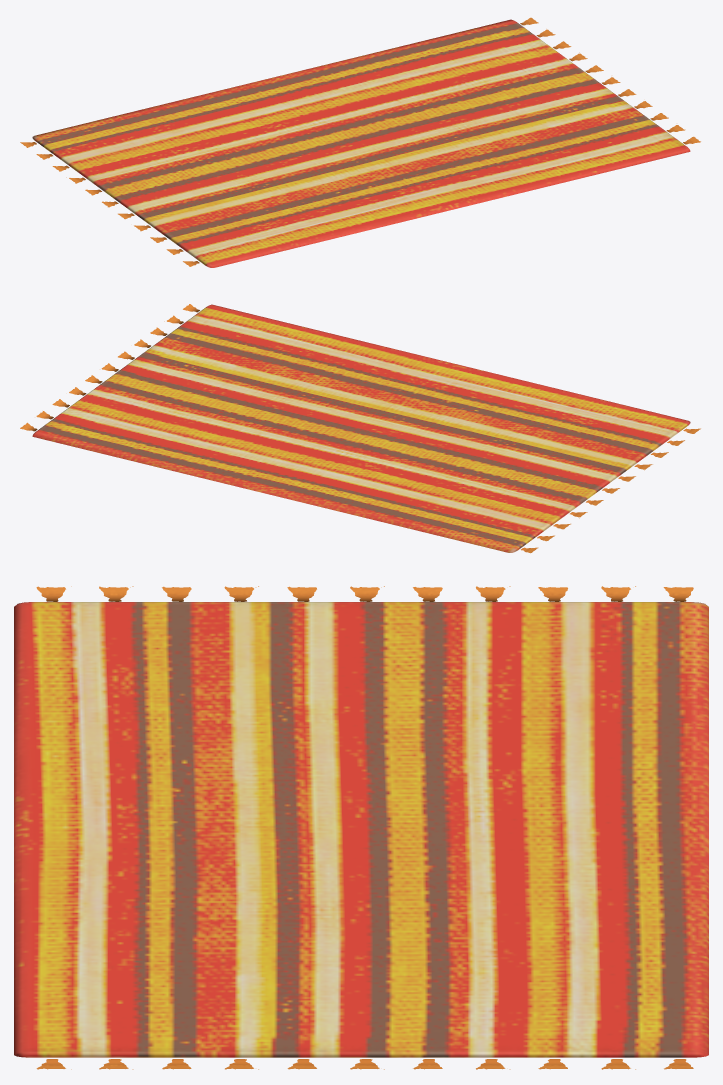
The model's file is SM_Carpet_03.fbx.
3 views of the same model, one above another, from view 1: azimuth 30°, elevation 25°; view 2: azimuth 150°, elevation 25°; view 3: azimuth 270°, elevation 25° (orthographic). The views are drawn at different scales.
Parts seen in each view (by area): view 1: SM_Carpet_03_LOD0; view 2: SM_Carpet_03_LOD0; view 3: SM_Carpet_03_LOD0.
Part boxes in pixels (x1=…): SM_Carpet_03_LOD0: x1=20, y1=17, x2=700, y2=267; SM_Carpet_03_LOD0: x1=20, y1=304, x2=700, y2=553; SM_Carpet_03_LOD0: x1=14, y1=586, x2=708, y2=1069.
Size of the model in its own units: 281 by 170 by 0.9535.
1 material, 1 textured.
